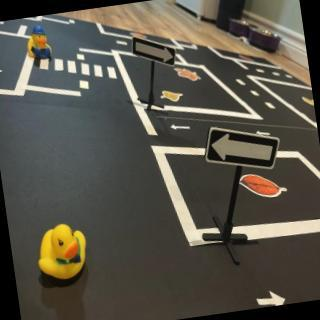duck_regular: (29, 221, 92, 291)
duck_specialty: (22, 20, 55, 62)
road_crosswalk: (35, 43, 121, 94)
road_oneway: (250, 282, 295, 310), (169, 119, 193, 139), (254, 125, 274, 140)
sign_oneway_left: (200, 117, 285, 179)
sign_oneway_right: (131, 30, 184, 76)
